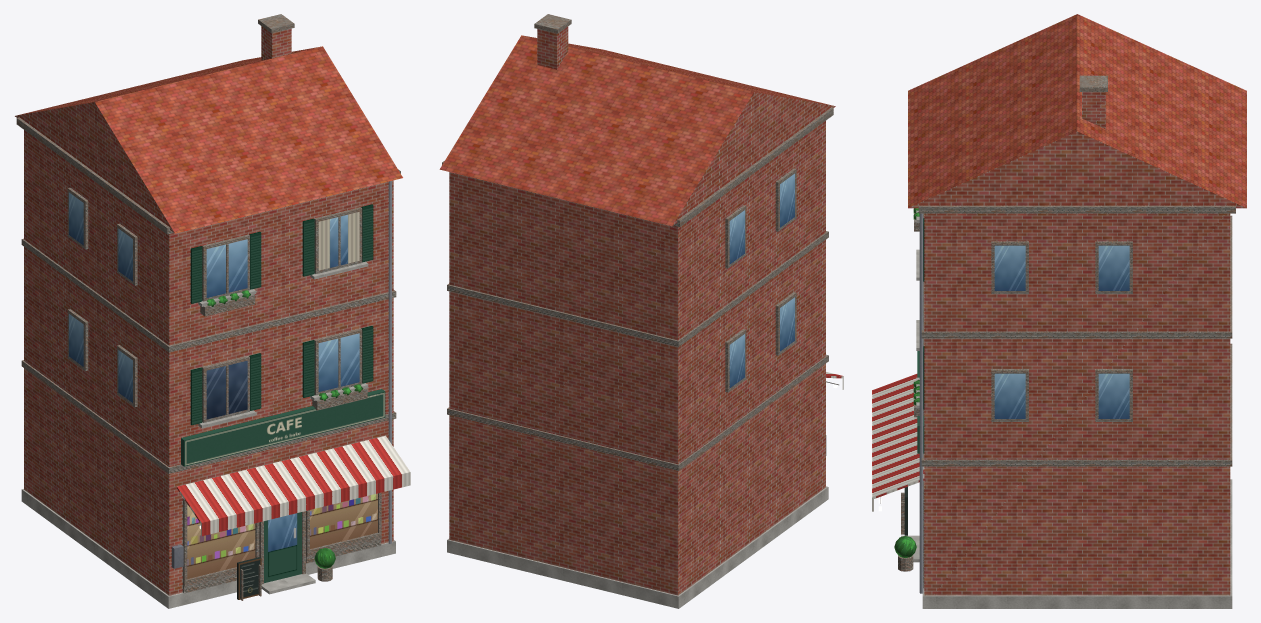
Rendered from b3_brick_cafe.glb.
The picture shows the model from 3 angles, left to right: view 1: azimuth 30°, elevation 25°; view 2: azimuth 150°, elevation 25°; view 3: azimuth 270°, elevation 25°; orthographic projection. The views are drawn at different scales.
Visible parts, largest first — view 1: wall, rooftile, awning, solid_#2e5a48, solid_#efe6cf, glass, sign, glass_shop, shutter, concrete, door, glass_curtain (+5 smaller); view 2: wall, rooftile, solid_#efe6cf, concrete, glass, solid_#2e5a48; view 3: wall, rooftile, solid_#efe6cf, glass, concrete, awning, solid_#2e5a48, metal, leaf.
Part boxes in pixels (box(x1,y1,x2,y2)): wall: box(15, 26, 393, 595); rooftile: box(18, 46, 402, 233); awning: box(177, 435, 410, 536); solid_#2e5a48: box(67, 187, 381, 586); solid_#efe6cf: box(16, 117, 400, 593); glass: box(69, 192, 359, 402); sign: box(181, 389, 385, 466); glass_shop: box(187, 493, 377, 578); shutter: box(190, 204, 373, 425); concrete: box(21, 261, 395, 608); door: box(264, 512, 301, 583); glass_curtain: box(318, 212, 359, 270); wall: box(449, 26, 835, 595); rooftile: box(439, 35, 833, 226); solid_#efe6cf: box(442, 108, 833, 470); concrete: box(447, 486, 828, 608); glass: box(729, 173, 794, 388); solid_#2e5a48: box(725, 168, 796, 392); wall: box(908, 92, 1246, 595); rooftile: box(908, 14, 1246, 207); solid_#efe6cf: box(918, 205, 1235, 588); glass: box(994, 245, 1129, 418); concrete: box(901, 210, 1232, 608); awning: box(872, 374, 924, 511); solid_#2e5a48: box(923, 213, 1132, 580); metal: box(919, 213, 923, 593); leaf: box(894, 208, 919, 558).
Bounding box in the file's own units: 6.04 × 11.9 × 7.96.
22 materials, 22 textured.
